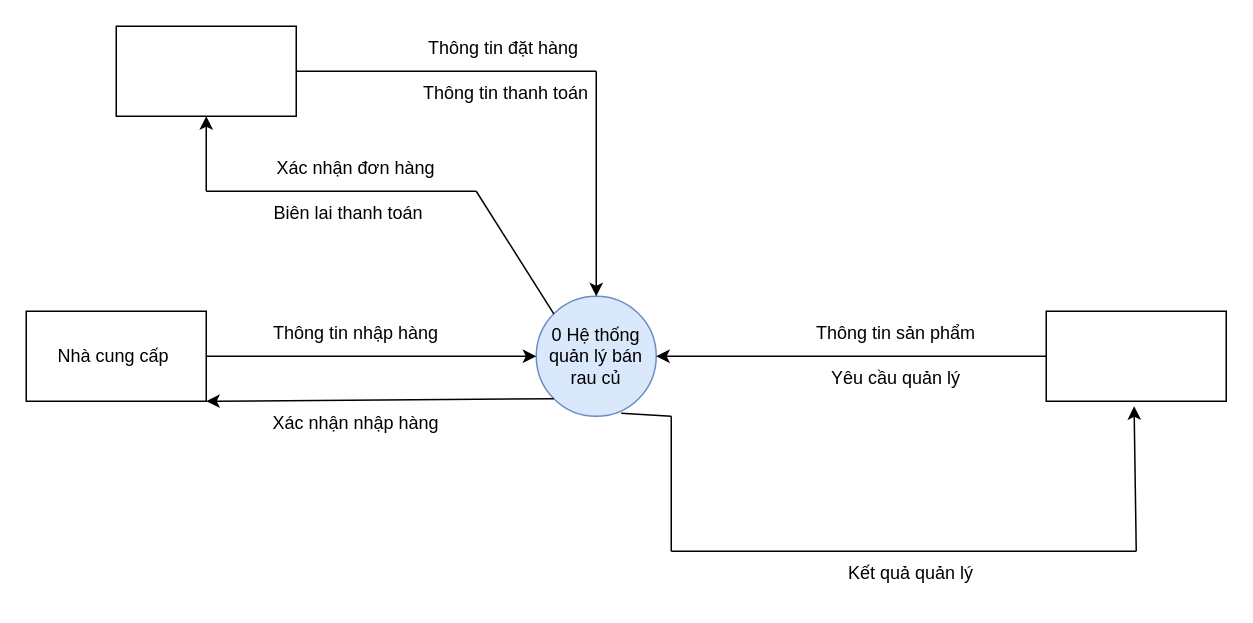
This 1253x623 diagram has some shape labels left out. Here are the shapes that lost their labels. From the top down, the centre of each, then its label:
At pixel 205 70: "Khách hàng".
At pixel 1135 355: "Quản lý".
